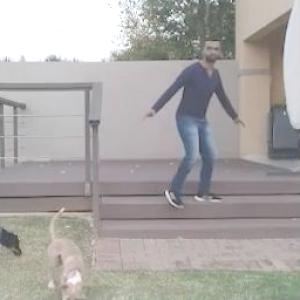land: (153, 36, 234, 217)
